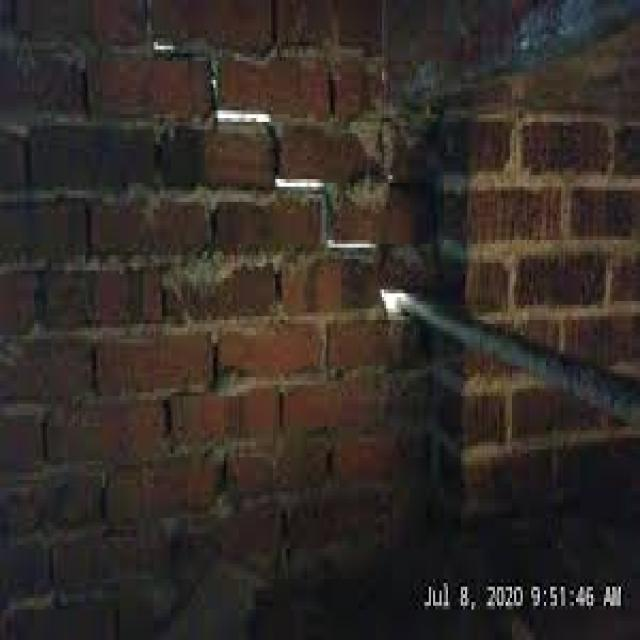Crack: (149, 34, 418, 316)
